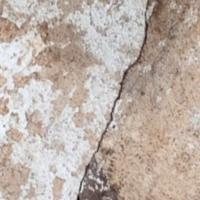crack: (76, 0, 175, 199)
